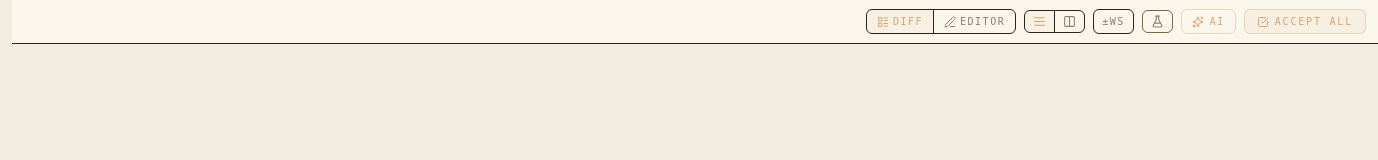
Scenario: ReviewCanvas misc › renders children (Editor mode) when toggle is clicked
This screenshot has width=1378, height=160.
Click the button "Editor" at (974, 22), box [933, 10, 1015, 33]
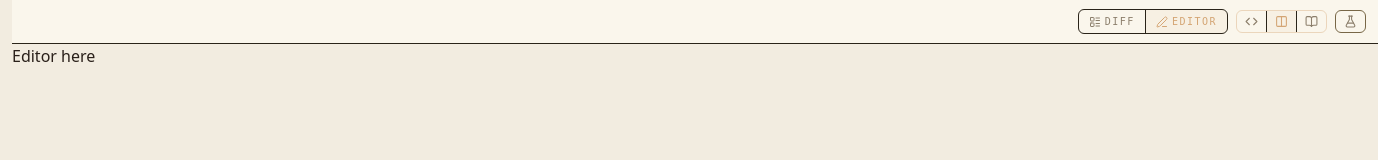
Expected: the text "Editor here" is shown, [12, 45, 95, 67]
